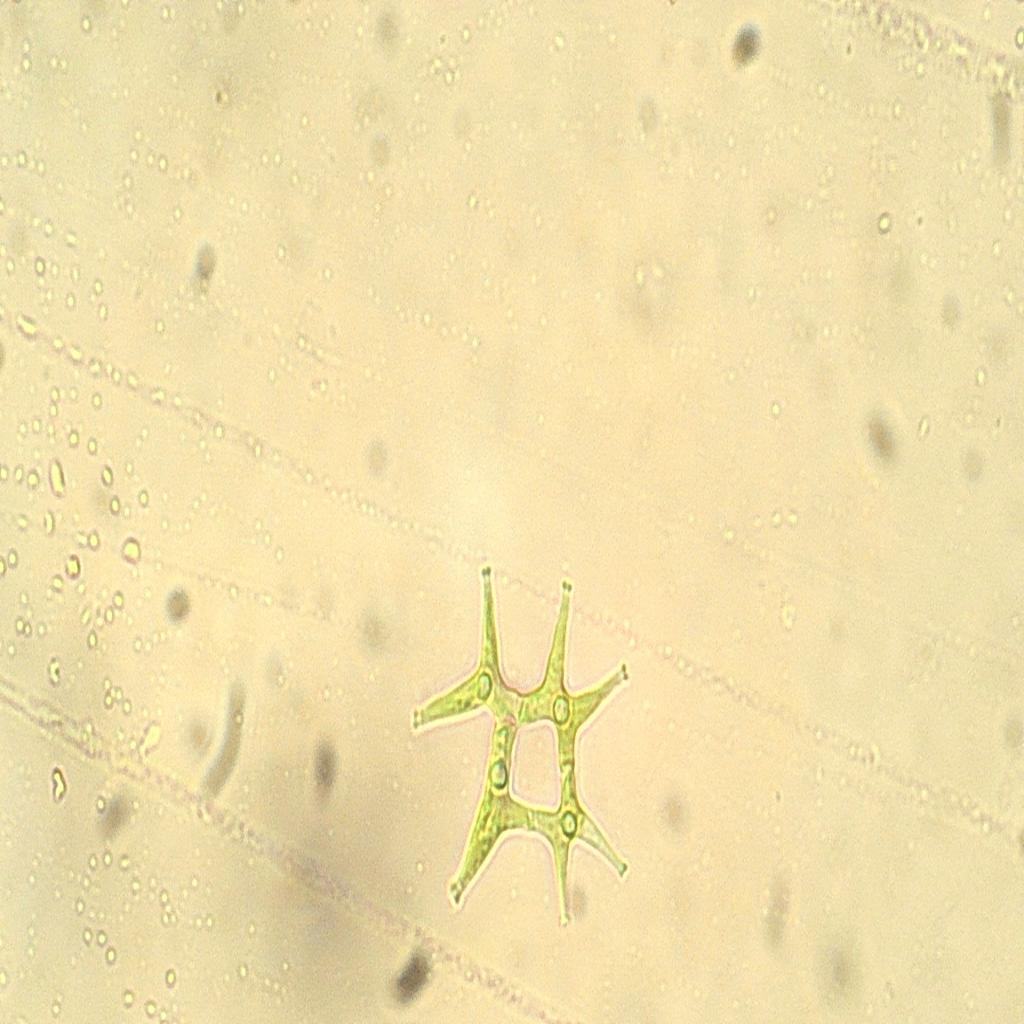Pediastrum_75FI: (402, 542, 650, 944)
